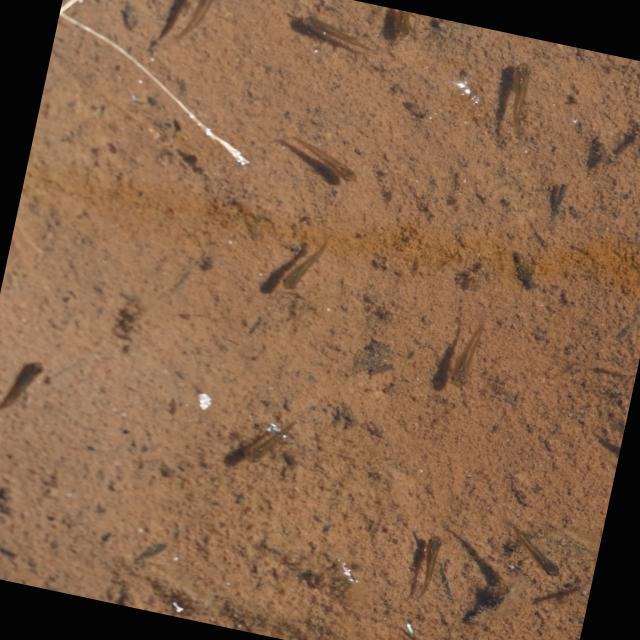Sivrisinek Baligi: (277, 3, 375, 61), (492, 517, 572, 581), (284, 128, 366, 187), (490, 56, 550, 132), (233, 404, 298, 474), (154, 0, 237, 52), (443, 310, 491, 390), (276, 236, 334, 302), (409, 521, 454, 600), (0, 356, 44, 421)
